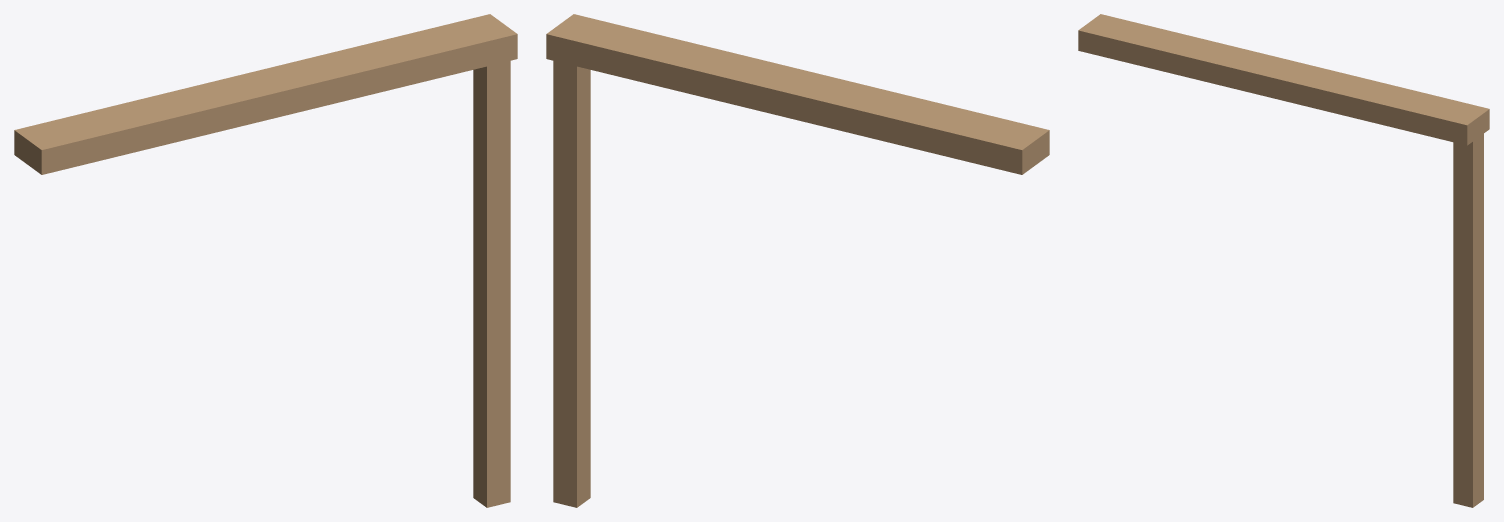
Rendered from Prop_DS_Water_Gutter_V3.glb.
The picture shows the model from 3 angles, left to right: view 1: azimuth 30°, elevation 25°; view 2: azimuth 150°, elevation 25°; view 3: azimuth 330°, elevation 25°; orthographic projection. The views are drawn at different scales.
Parts seen in each view (by area): view 1: Prop_DS_Water_Gutter_V3; view 2: Prop_DS_Water_Gutter_V3; view 3: Prop_DS_Water_Gutter_V3.
Part boxes in pixels (x1=…): Prop_DS_Water_Gutter_V3: x1=14, y1=14, x2=517, y2=507; Prop_DS_Water_Gutter_V3: x1=546, y1=14, x2=1049, y2=507; Prop_DS_Water_Gutter_V3: x1=1078, y1=14, x2=1489, y2=507.
Bounding box in the file's own units: 2 × 1.9 × 0.2.
